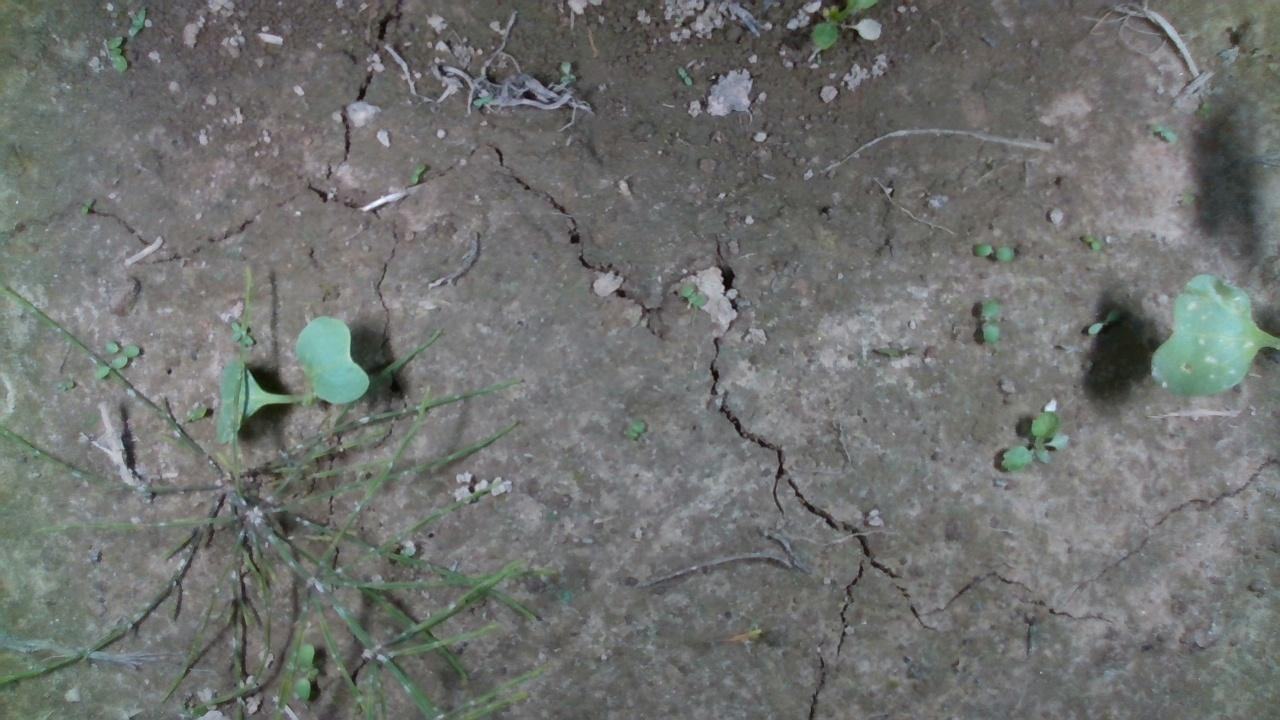weed: (970, 240, 1016, 265), (1085, 305, 1122, 335), (978, 295, 999, 344), (676, 281, 709, 308), (105, 33, 127, 72), (1144, 118, 1177, 144), (126, 3, 147, 36), (622, 415, 646, 441), (406, 159, 425, 185), (1079, 232, 1101, 252), (675, 64, 692, 86)
